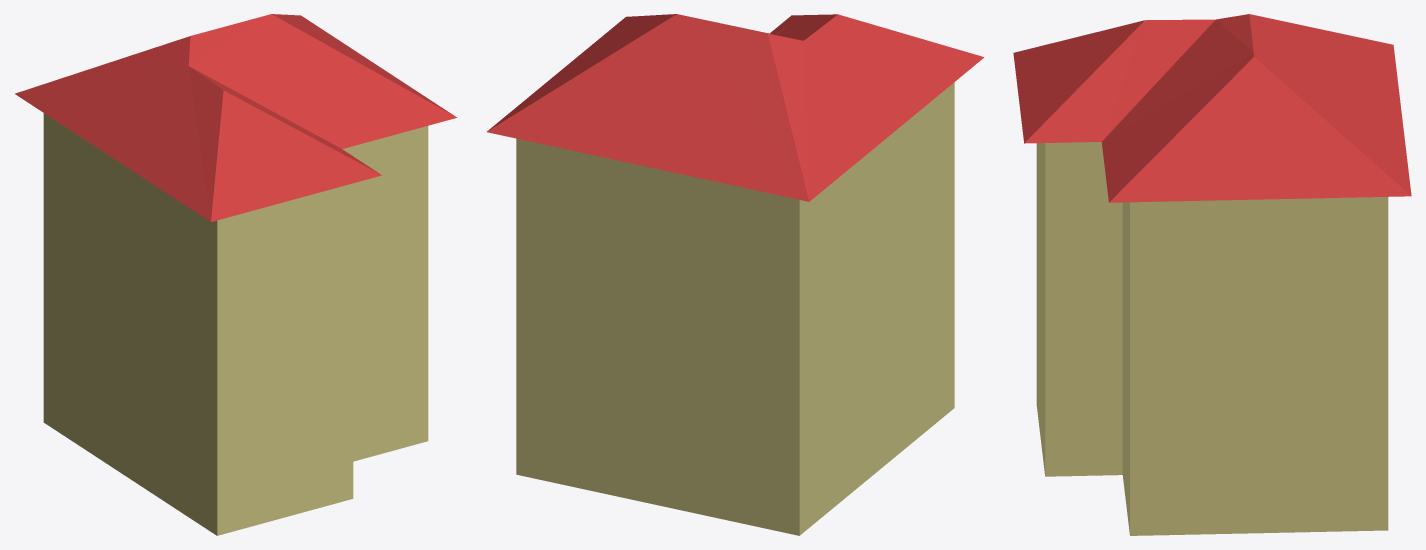
3 renders of one model, left to right at view 1: azimuth 30°, elevation 25°; view 2: azimuth 150°, elevation 25°; view 3: azimuth 270°, elevation 25°, orthographic. The views are drawn at different scales.
Visible parts, largest first — view 1: group_5, group_3, group_4; view 2: group_5, group_3, group_4; view 3: group_5, group_3, group_4.
Part boxes in pixels (x1=…): group_5: x1=43, y1=113, x2=428, y2=535; group_3: x1=15, y1=14, x2=427, y2=221; group_4: x1=15, y1=17, x2=456, y2=221; group_5: x1=516, y1=27, x2=954, y2=535; group_3: x1=488, y1=14, x2=980, y2=201; group_4: x1=487, y1=15, x2=984, y2=201; group_5: x1=1036, y1=142, x2=1388, y2=535; group_3: x1=1014, y1=14, x2=1410, y2=195; group_4: x1=1013, y1=41, x2=1411, y2=202.
Size of the model in its own units: 8.42 by 8.98 by 10.67.
